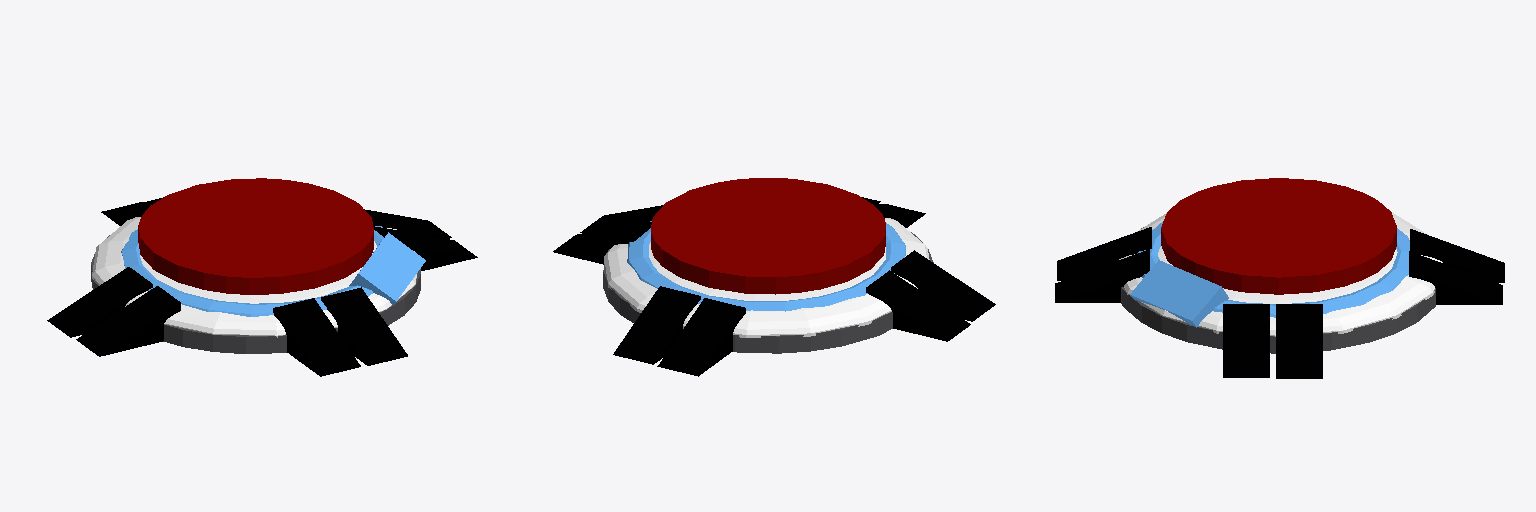
File: portalButton.obj
3 views of the same model, side by side, from view 1: azimuth 30°, elevation 25°; view 2: azimuth 150°, elevation 25°; view 3: azimuth 270°, elevation 25° (orthographic).
Visible parts, largest first — view 1: Part8, Part10, Part5, Part4, Part6, Part9, Part3, Part12, Part7, Part13, Part14, Part2; view 2: Part8, Part10, Part2, Part7, Part1, Part3, Part9, Part4, Part14, Part13, Part5; view 3: Part8, Part10, Part9, Part14, Part12, Part13, Part1, Part6, Part7, Part2, Part5.
Boxes of the visible parts, x1=… form: Part8: x1=138, y1=178, x2=373, y2=294; Part10: x1=92, y1=217, x2=416, y2=337; Part5: x1=273, y1=298, x2=360, y2=376; Part4: x1=76, y1=286, x2=180, y2=356; Part6: x1=321, y1=287, x2=407, y2=365; Part9: x1=91, y1=235, x2=420, y2=353; Part3: x1=47, y1=267, x2=152, y2=337; Part12: x1=349, y1=232, x2=425, y2=305; Part7: x1=121, y1=226, x2=383, y2=316; Part13: x1=373, y1=226, x2=477, y2=270; Part14: x1=364, y1=209, x2=451, y2=238; Part2: x1=101, y1=202, x2=155, y2=225; Part8: x1=651, y1=178, x2=885, y2=294; Part10: x1=604, y1=218, x2=929, y2=337; Part2: x1=657, y1=298, x2=745, y2=376; Part7: x1=627, y1=221, x2=905, y2=311; Part1: x1=613, y1=286, x2=700, y2=364; Part3: x1=866, y1=270, x2=970, y2=341; Part9: x1=603, y1=232, x2=933, y2=353; Part4: x1=891, y1=250, x2=995, y2=321; Part14: x1=553, y1=222, x2=651, y2=264; Part13: x1=580, y1=205, x2=662, y2=233; Part5: x1=873, y1=204, x2=925, y2=227; Part8: x1=1161, y1=178, x2=1396, y2=294; Part10: x1=1119, y1=213, x2=1442, y2=336; Part9: x1=1121, y1=227, x2=1435, y2=353; Part14: x1=1276, y1=304, x2=1322, y2=378; Part12: x1=1130, y1=260, x2=1228, y2=327; Part13: x1=1223, y1=304, x2=1269, y2=377; Part1: x1=1409, y1=251, x2=1502, y2=304; Part6: x1=1055, y1=249, x2=1149, y2=302; Part7: x1=1137, y1=222, x2=1409, y2=317; Part2: x1=1410, y1=229, x2=1504, y2=282; Part5: x1=1057, y1=227, x2=1151, y2=280.
Size of the model in its own units: 9.5 by 1.32 by 9.52.